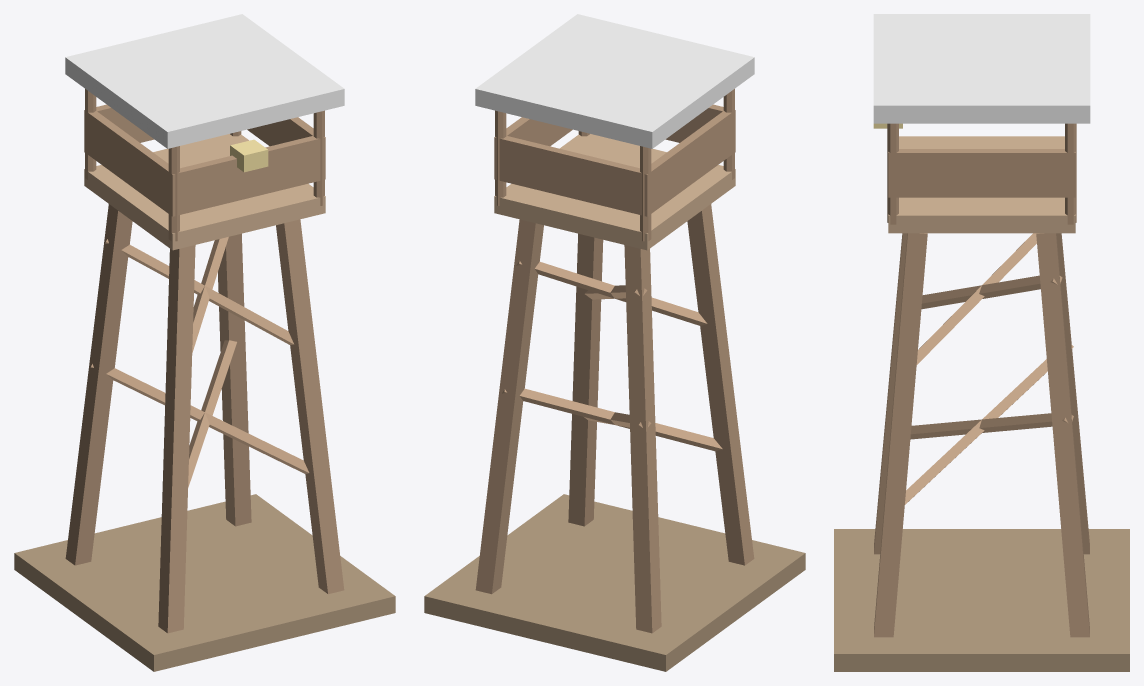
Rendered from watchtower.glb.
The picture shows the model from 3 angles, left to right: view 1: azimuth 30°, elevation 25°; view 2: azimuth 150°, elevation 25°; view 3: azimuth 270°, elevation 25°; orthographic projection. The views are drawn at different scales.
Visible parts, largest first — view 1: main; view 2: main; view 3: main.
Part boxes in pixels (x1,y1,x2,y2): main: (14, 14, 395, 671); main: (424, 14, 805, 671); main: (834, 14, 1129, 671).
Size of the model in its own units: 0.6 by 1.23 by 0.6.
